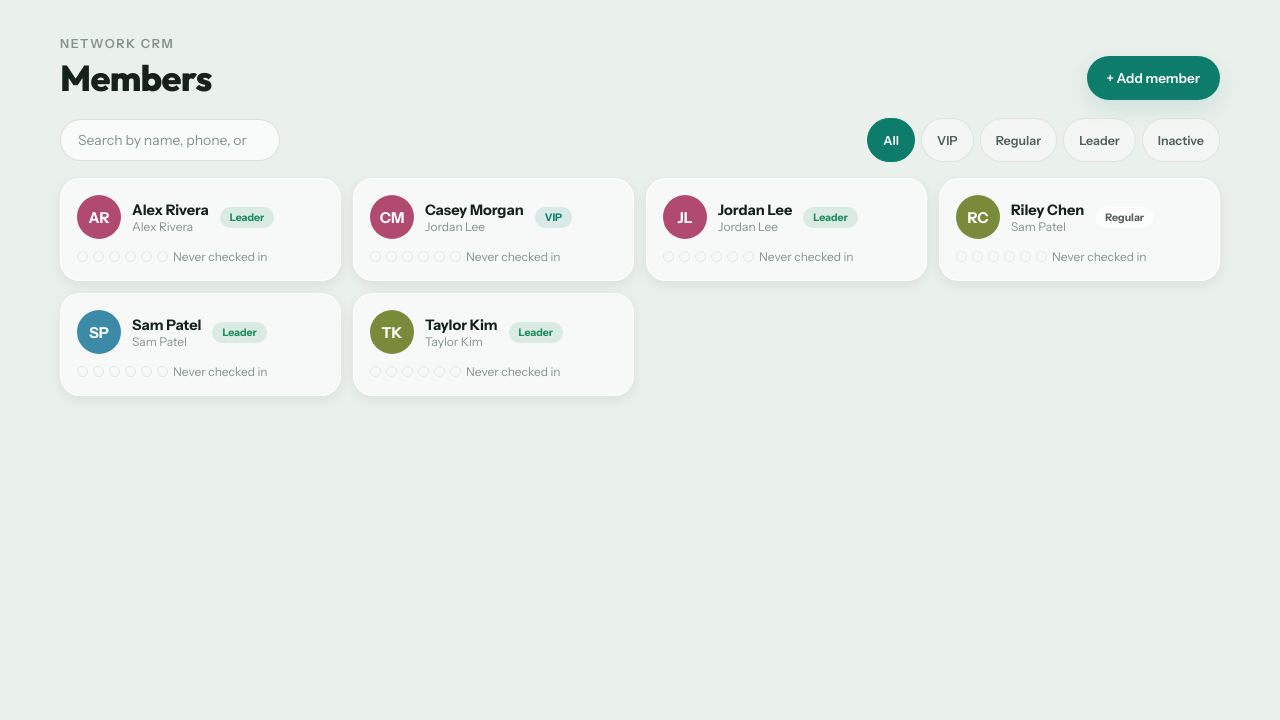
Test: MembersPage › initializes new members with empty address and notes
Click the button "+ Add member": (1153, 78) [1087, 56, 1220, 100]
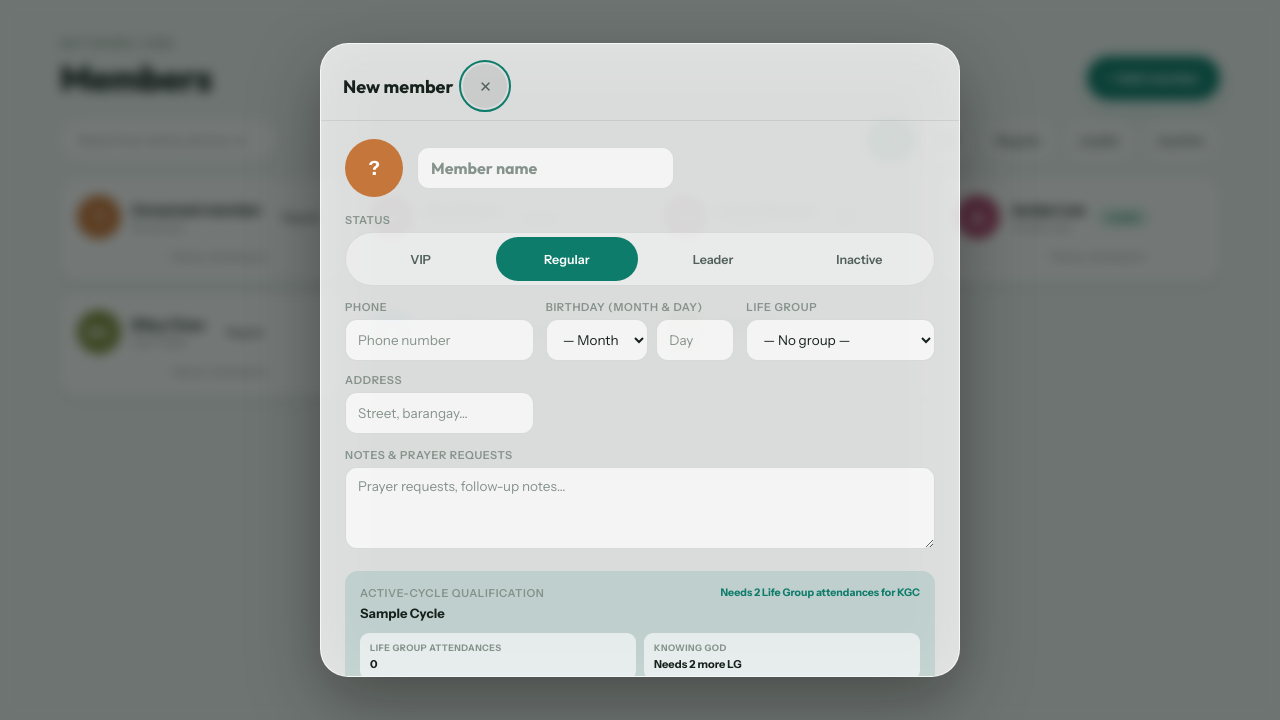
Expected: the dialog "New member" is shown, [320, 43, 960, 677]
